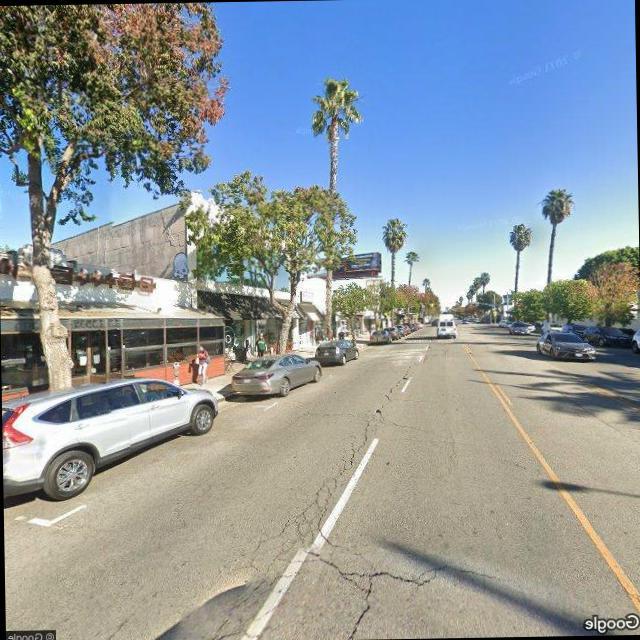crack: (185, 409, 432, 640)
pothole: (382, 360, 414, 399)
